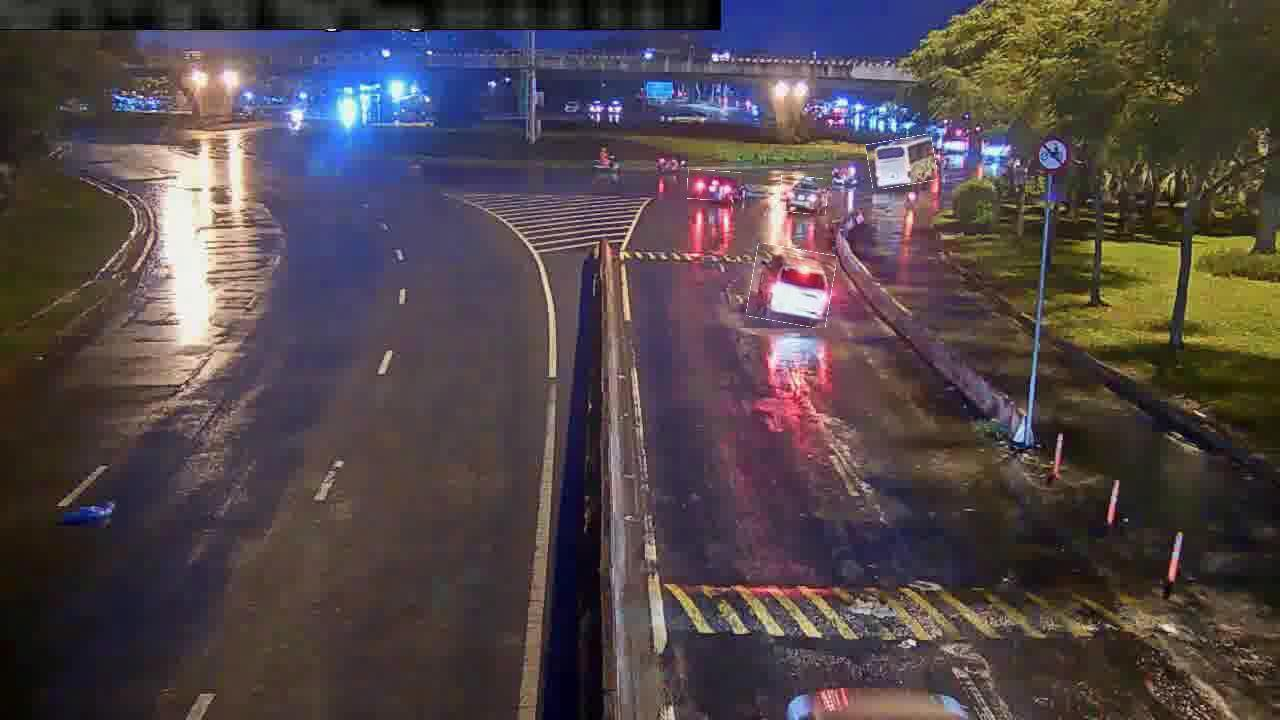14: (868, 136, 937, 188)
container: (749, 246, 835, 326), (779, 176, 828, 214), (688, 170, 742, 201)
